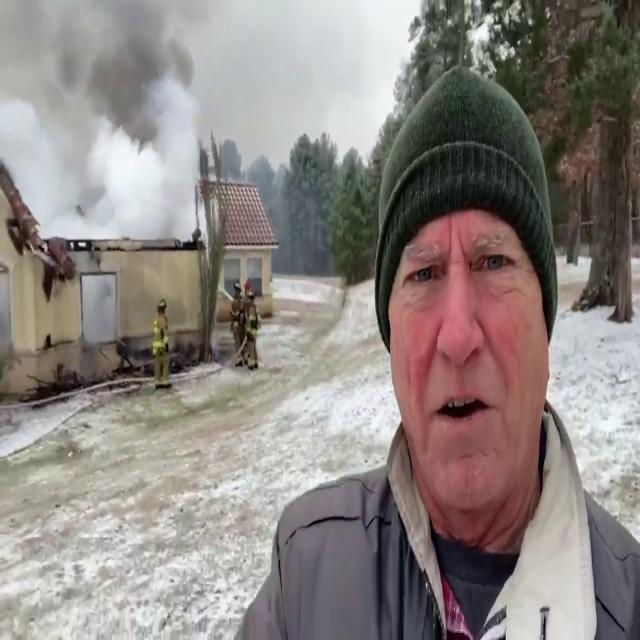Smoke: (0, 0, 238, 230)
